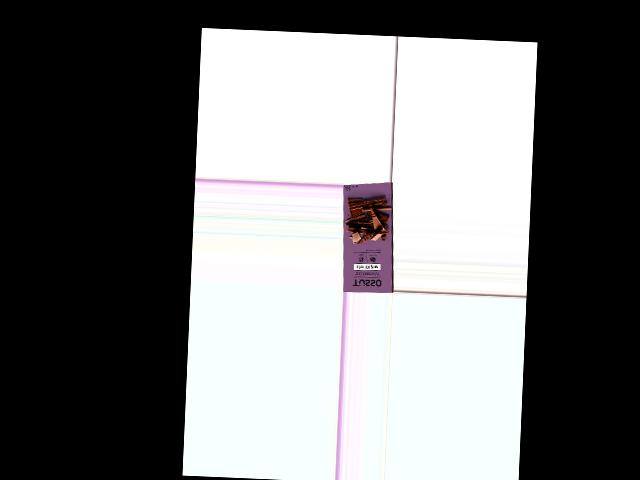chocolate: (341, 180, 394, 291)
